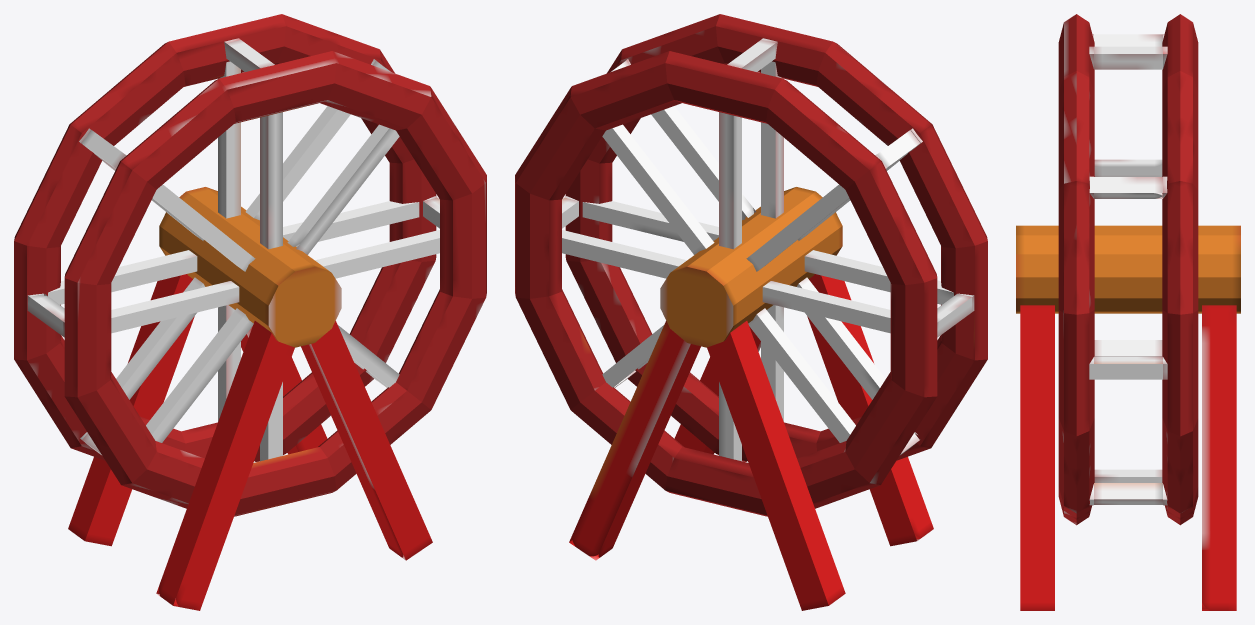
File: ferris wheel.obj
3 views of the same model, side by side, from view 1: azimuth 30°, elevation 25°; view 2: azimuth 150°, elevation 25°; view 3: azimuth 270°, elevation 25° (orthographic). The views are drawn at different scales.
Parts seen in each view (by area): view 1: torus, cube, cylinder; view 2: torus, cube, cylinder; view 3: torus, cube, cylinder.
Part boxes in pixels (x1=…): torus: x1=14, y1=14, x2=486, y2=516; cube: x1=27, y1=38, x2=439, y2=610; cylinder: x1=159, y1=187, x2=341, y2=347; torus: x1=515, y1=14, x2=987, y2=516; cube: x1=562, y1=38, x2=974, y2=610; cylinder: x1=660, y1=187, x2=842, y2=347; torus: x1=1058, y1=14, x2=1198, y2=525; cube: x1=1020, y1=34, x2=1236, y2=610; cylinder: x1=1016, y1=225, x2=1240, y2=313.
Bounding box in the file's own units: 1.81 × 2.06 × 0.8125.
